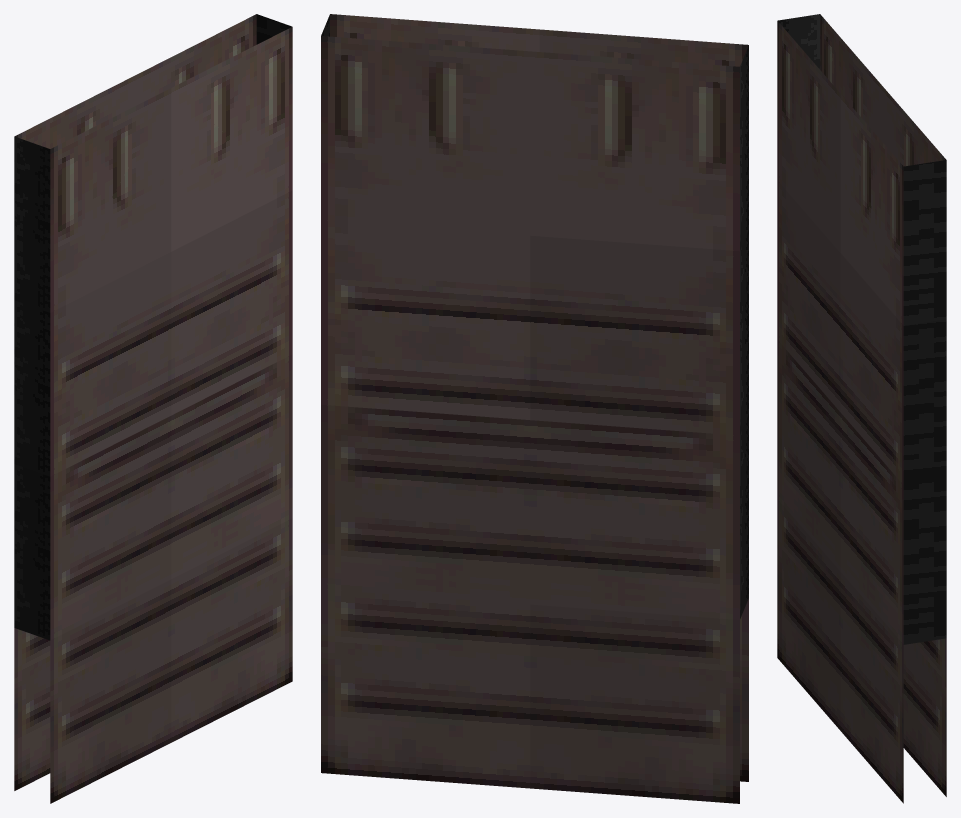
File: primary_168.glb
3 renders of one model, left to right at view 1: azimuth 30°, elevation 25°; view 2: azimuth 150°, elevation 25°; view 3: azimuth 270°, elevation 25°, orthographic. The views are drawn at different scales.
Visible parts, largest first — view 1: Object; view 2: Object; view 3: Object.
Part boxes in pixels (x1,y1,x2,y2): Object: [14, 14, 292, 803]; Object: [321, 14, 748, 803]; Object: [777, 14, 946, 803].
Size of the model in its own units: 1.27 by 2.47 by 0.5936.
16 materials, 16 textured.
